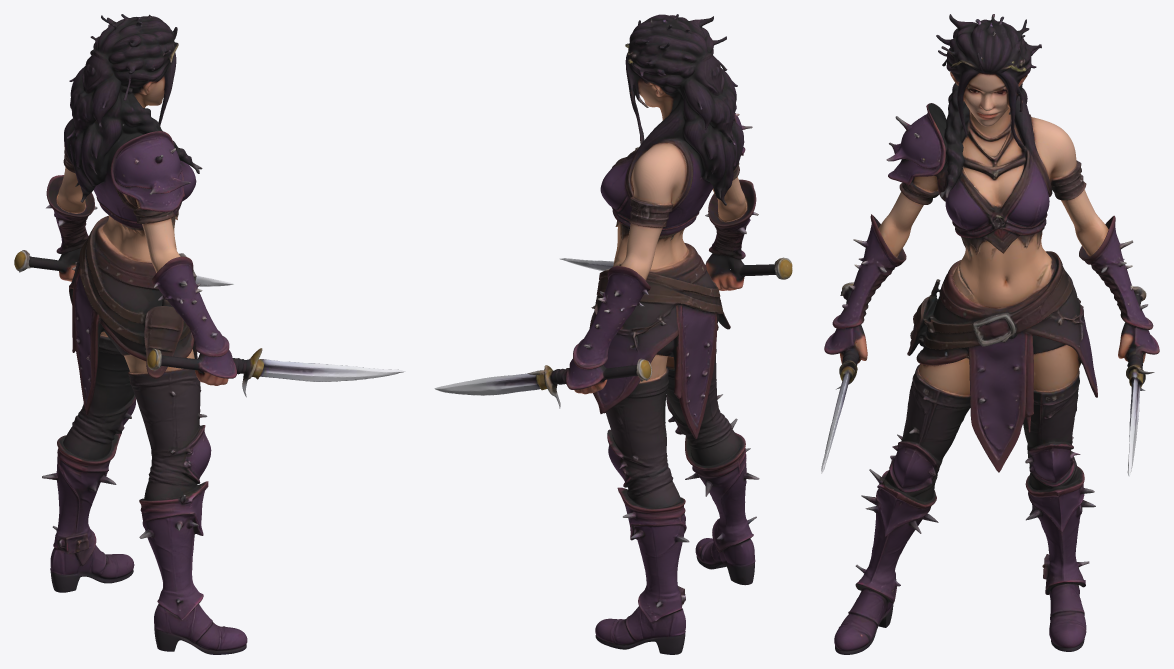
Rendered from model_v2_pbr.glb.
3 renders of one model, left to right at view 1: azimuth 30°, elevation 25°; view 2: azimuth 150°, elevation 25°; view 3: azimuth 270°, elevation 25°, orthographic. The views are drawn at different scales.
Parts seen in each view (by area): view 1: tripo_node_c41aa80b-5fdc-4661-bdbe-b87832009208; view 2: tripo_node_c41aa80b-5fdc-4661-bdbe-b87832009208; view 3: tripo_node_c41aa80b-5fdc-4661-bdbe-b87832009208.
Boxes of the visible parts, bbox=[...] form: tripo_node_c41aa80b-5fdc-4661-bdbe-b87832009208: bbox=[14, 14, 405, 654]; tripo_node_c41aa80b-5fdc-4661-bdbe-b87832009208: bbox=[434, 14, 792, 654]; tripo_node_c41aa80b-5fdc-4661-bdbe-b87832009208: bbox=[821, 14, 1159, 654].
Size of the model in its own units: 0.4541 by 0.9978 by 0.4966.
Materials: 1 (1 with a texture image).
